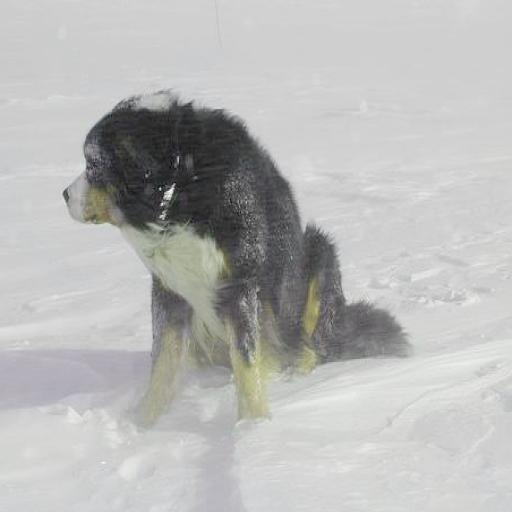dog_face: (54, 102, 179, 233)
